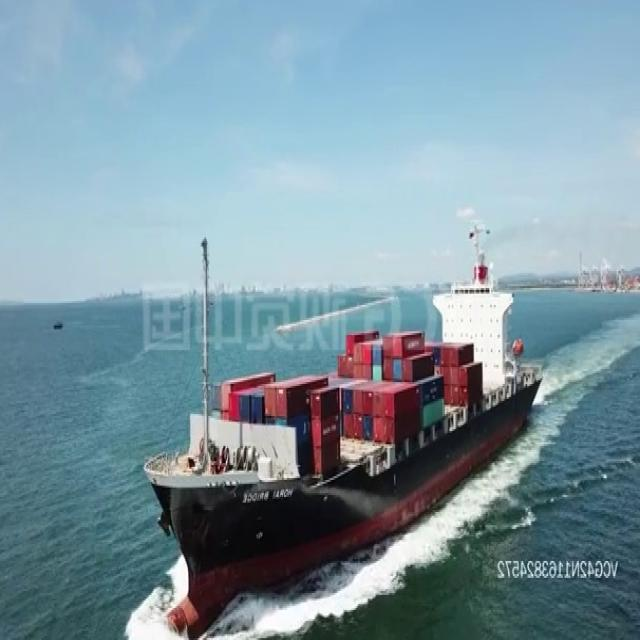cargoship: (140, 219, 540, 629)
